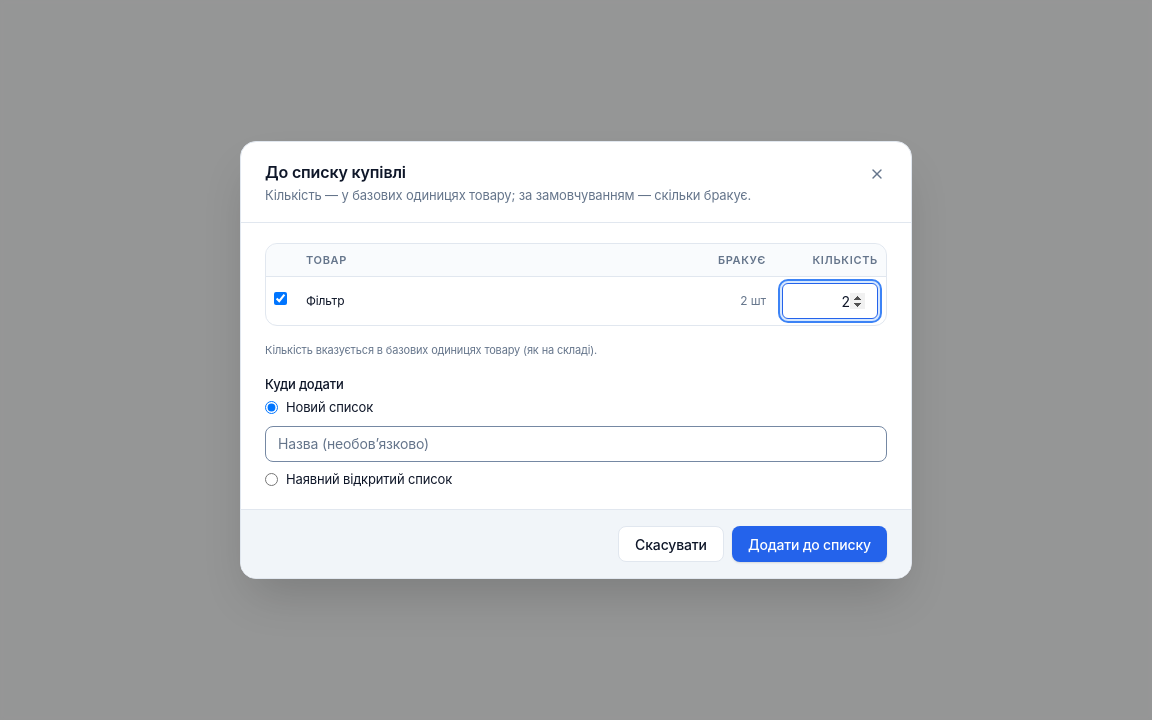
Test: AddToListDialog › нульова кількість або жодного рядка → помилка без запиту
Replace the text in the number field named "Кількість для Фільтр" with "0". click: (830, 301)
box: x1=782 y1=283 x2=878 y2=319
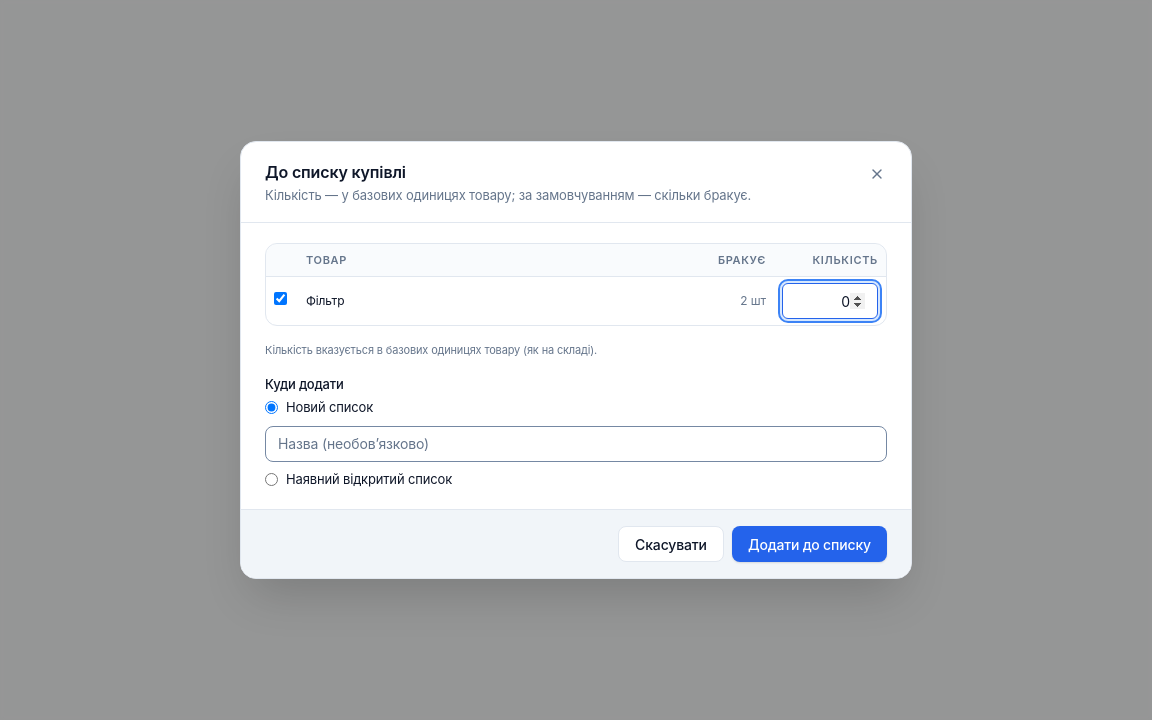
Click the button "Додати до списку". click: (809, 544)
box: x1=732 y1=526 x2=887 y2=562
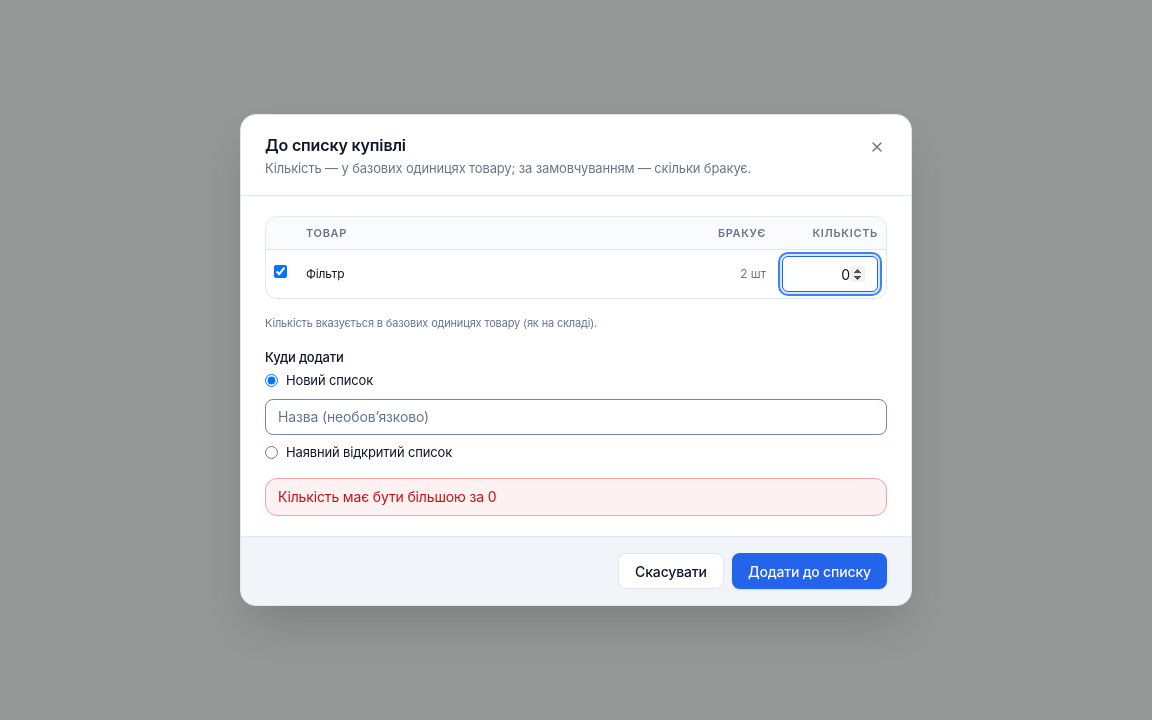
Check: the text "Кількість має бути більшою за 0" is shown, box x1=265 y1=478 x2=887 y2=516
Click the checkbox named "Вибрати Фільтр". click: (280, 272)
box: x1=274 y1=265 x2=287 y2=278
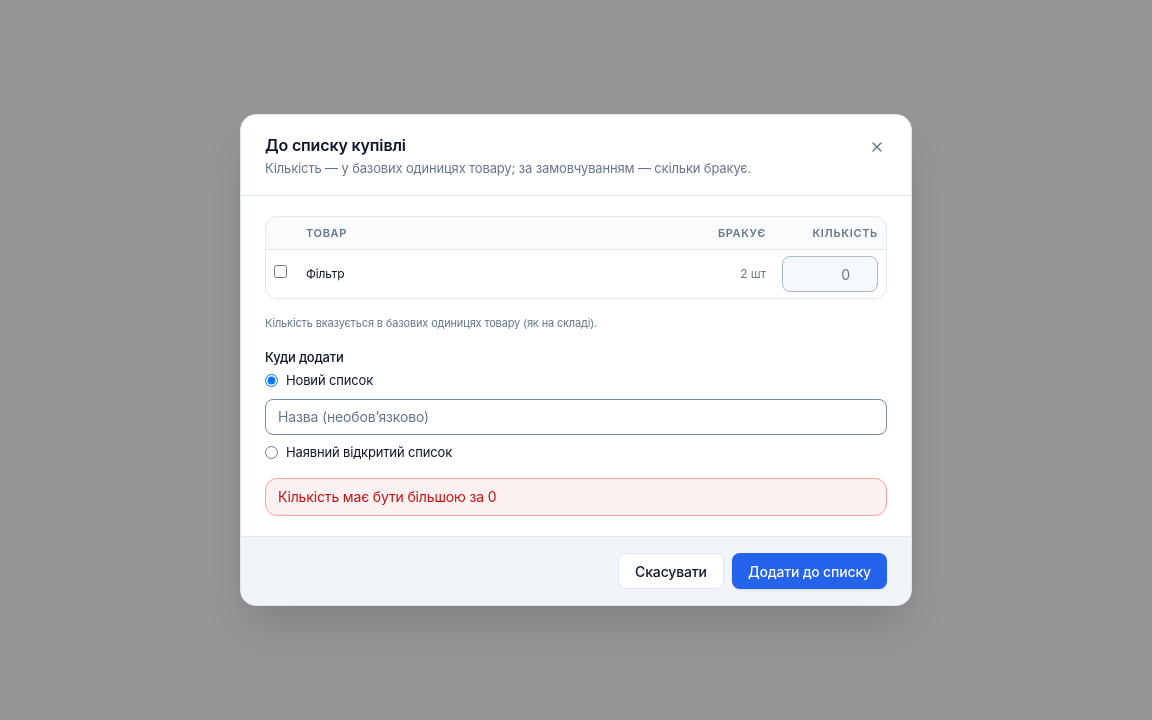
Click the button "Додати до списку". click: (809, 571)
box: x1=732 y1=553 x2=887 y2=589
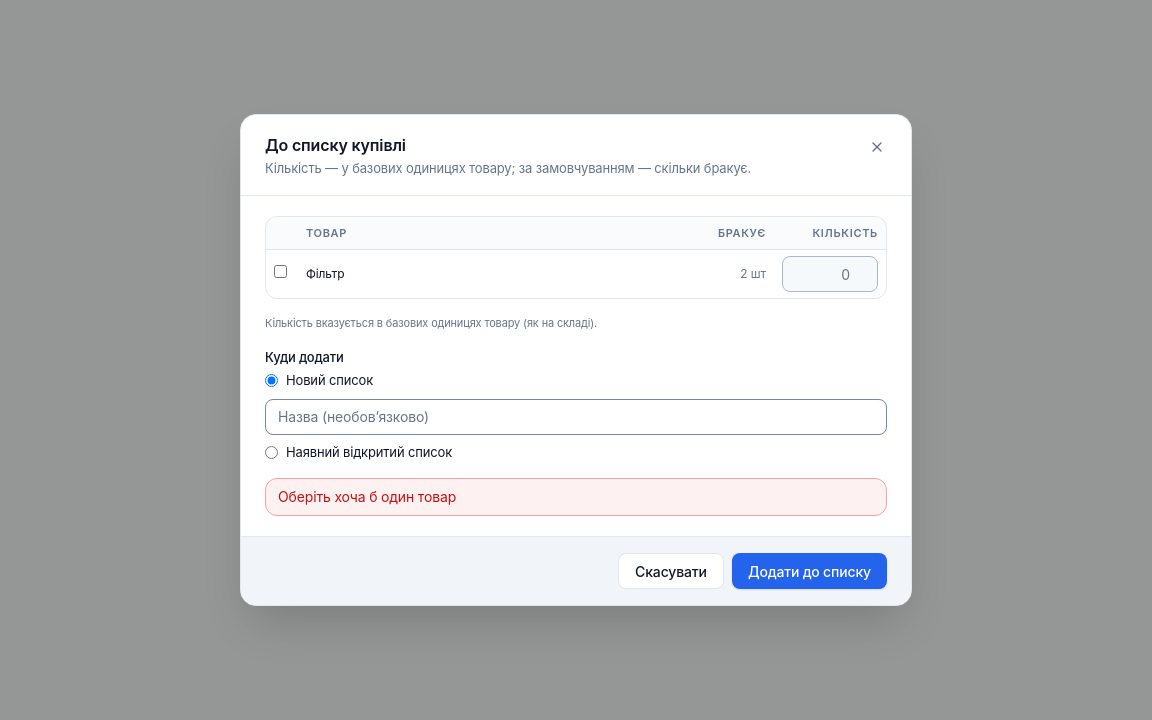
Check: the text "Оберіть хоча б один товар" is shown, box x1=265 y1=478 x2=887 y2=516
